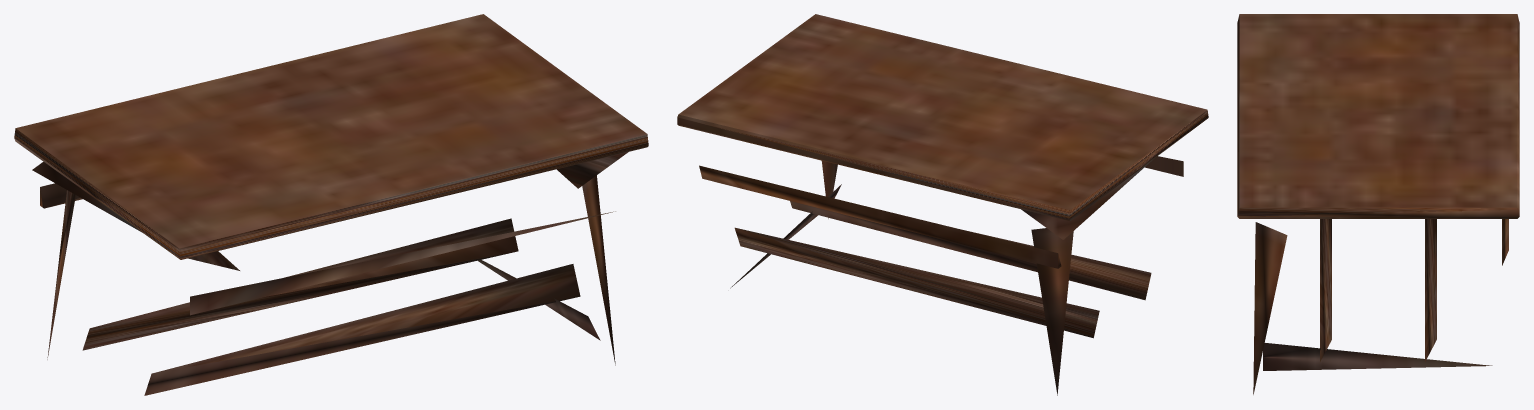
3 renders of one model, left to right at view 1: azimuth 30°, elevation 25°; view 2: azimuth 150°, elevation 25°; view 3: azimuth 270°, elevation 25°, orthographic. The views are drawn at different scales.
Visible parts, largest first — view 1: table; view 2: table; view 3: table.
Boxes of the visible parts, <box> form: table: <box>14,14,648,395</box>; table: <box>677,14,1208,395</box>; table: <box>1237,14,1519,394</box>.
Bounding box in the file's own units: 1.56 × 0.7423 × 0.9594.
1 material, 1 textured.
